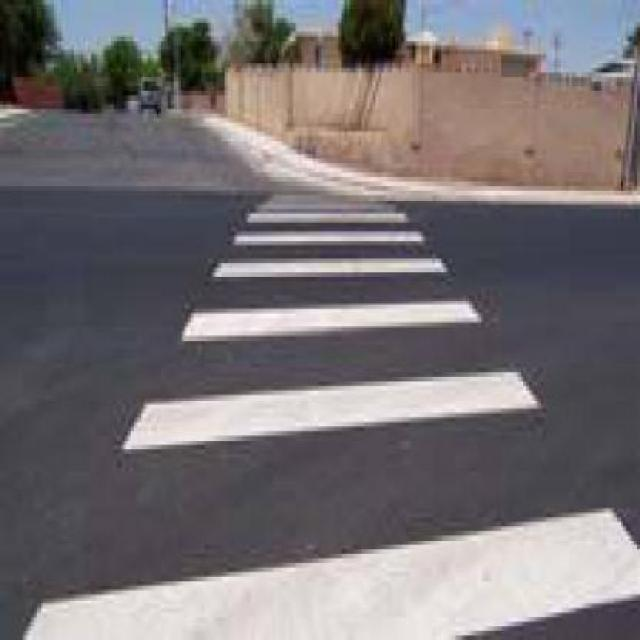crosswalk: (23, 192, 640, 638)
